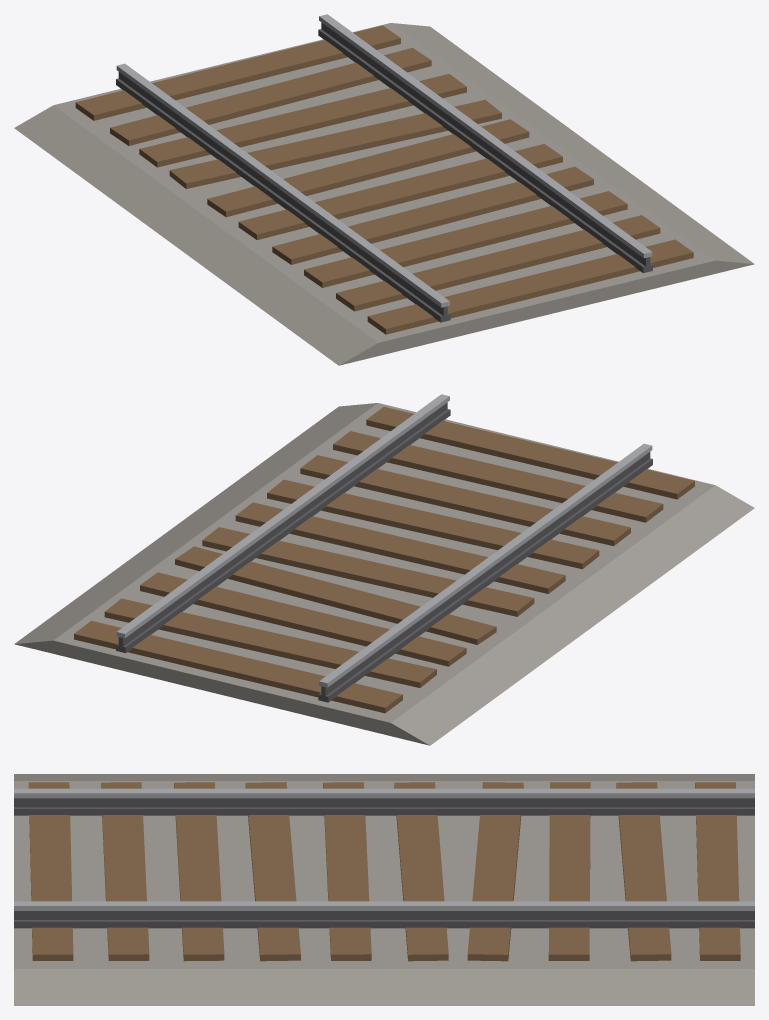
File: SM_Rail_Straight_4m.glb
The picture shows the model from 3 angles, top to bottom: view 1: azimuth 30°, elevation 25°; view 2: azimuth 150°, elevation 25°; view 3: azimuth 270°, elevation 25°; orthographic projection. The views are drawn at different scales.
Parts seen in each view (by area): view 1: SM_Rail_Straight_4m; view 2: SM_Rail_Straight_4m; view 3: SM_Rail_Straight_4m.
Boxes of the visible parts, x1,y1,x2,y2 form: SM_Rail_Straight_4m: [14, 14, 754, 365]; SM_Rail_Straight_4m: [14, 394, 754, 745]; SM_Rail_Straight_4m: [14, 774, 754, 1005].
Bounding box in the file's own units: 2.96 × 0.254 × 4.
